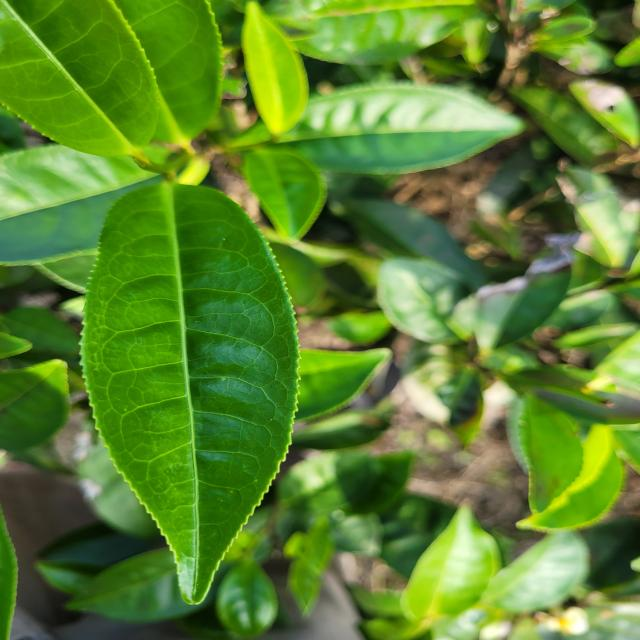Category B(2-4 days): (47, 140, 343, 622)
